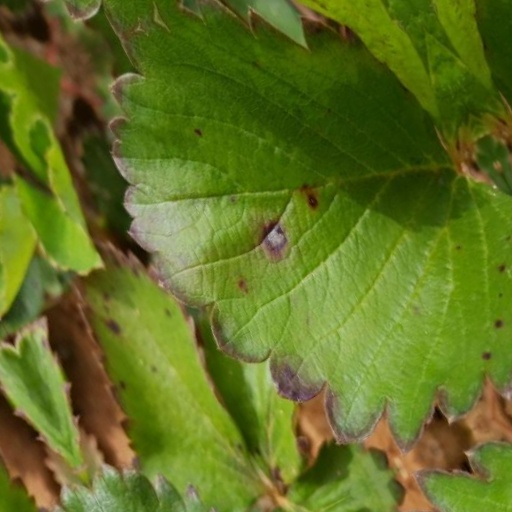Leaf Spot: (152, 0, 511, 501), (44, 163, 173, 482), (385, 0, 511, 258), (0, 365, 117, 511), (155, 273, 229, 484), (0, 208, 44, 375)
